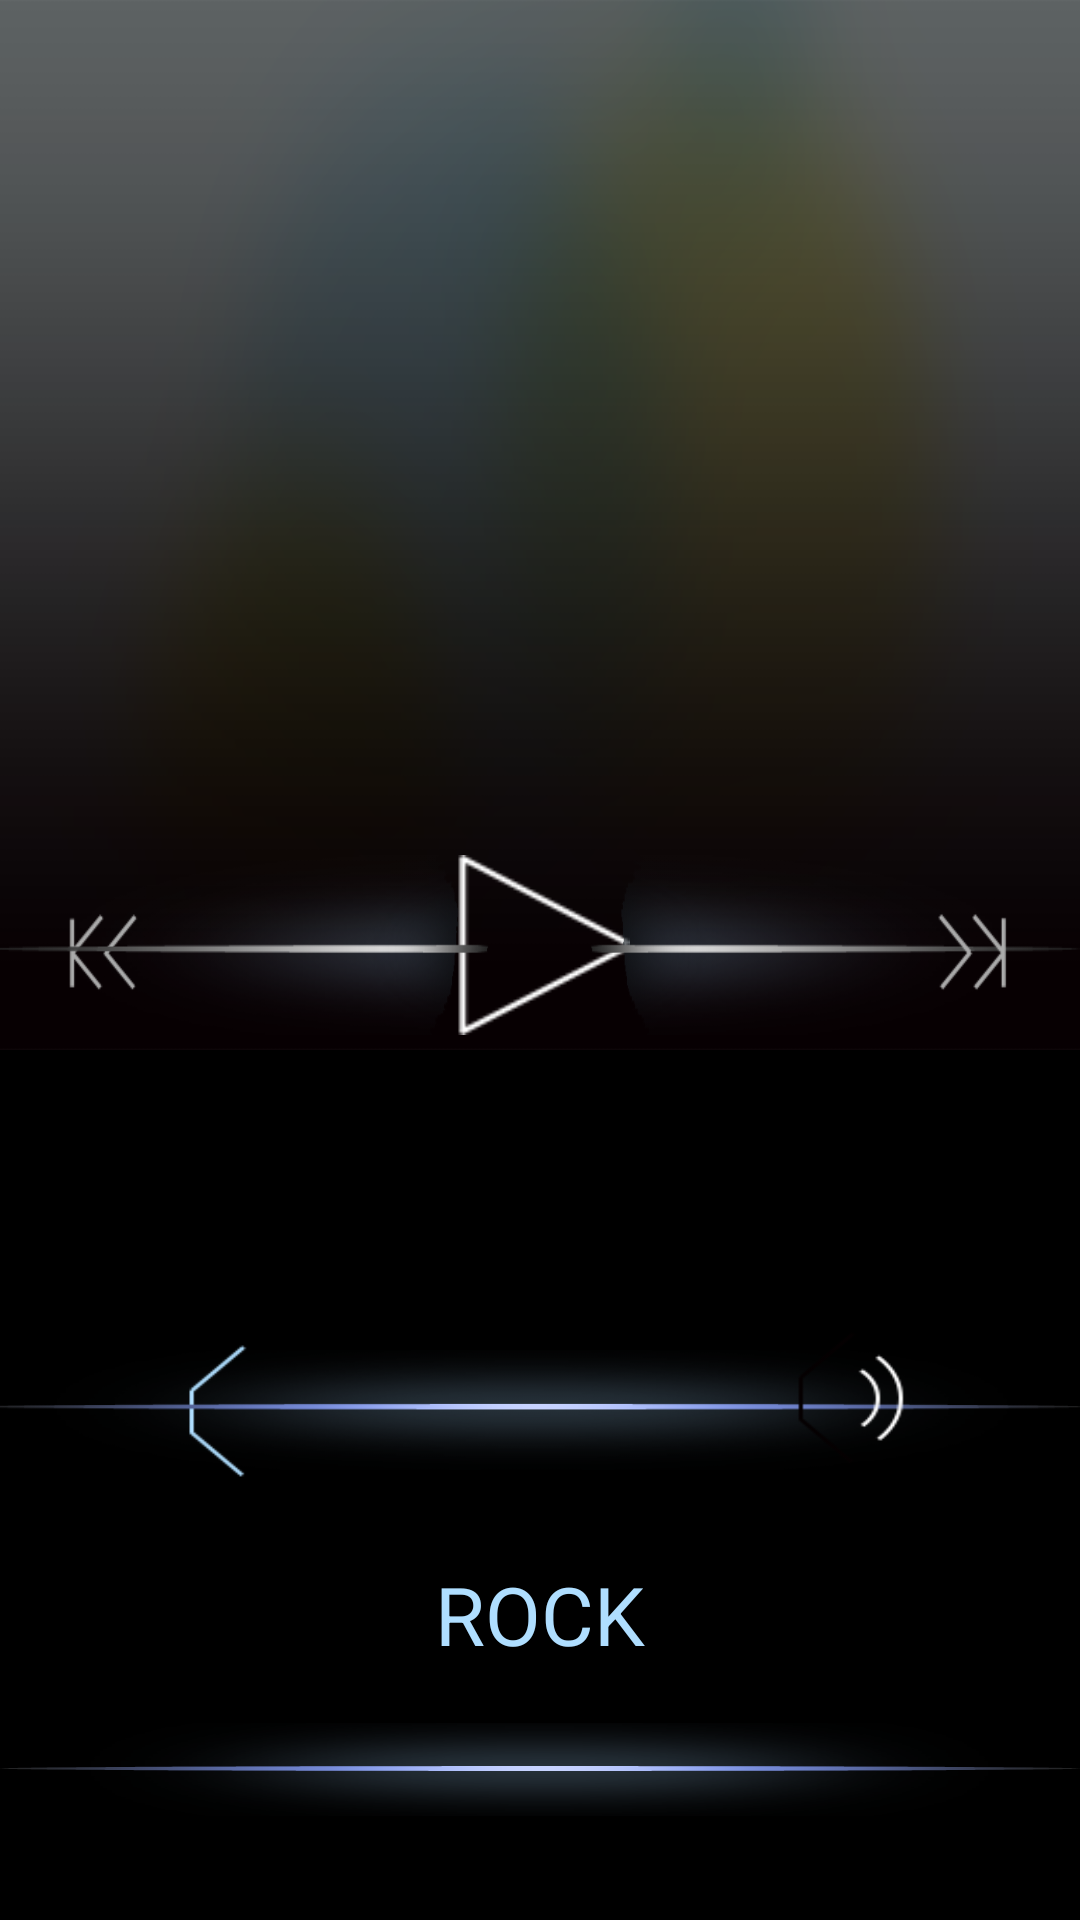

Point at icon controls on the screen. Image size 1080px x 1920px, points as [x,y].
music control slide next: [975,952]
music control slide pre: [105,952]
music play: [540,945]
music voice bar max: [855,1398]
